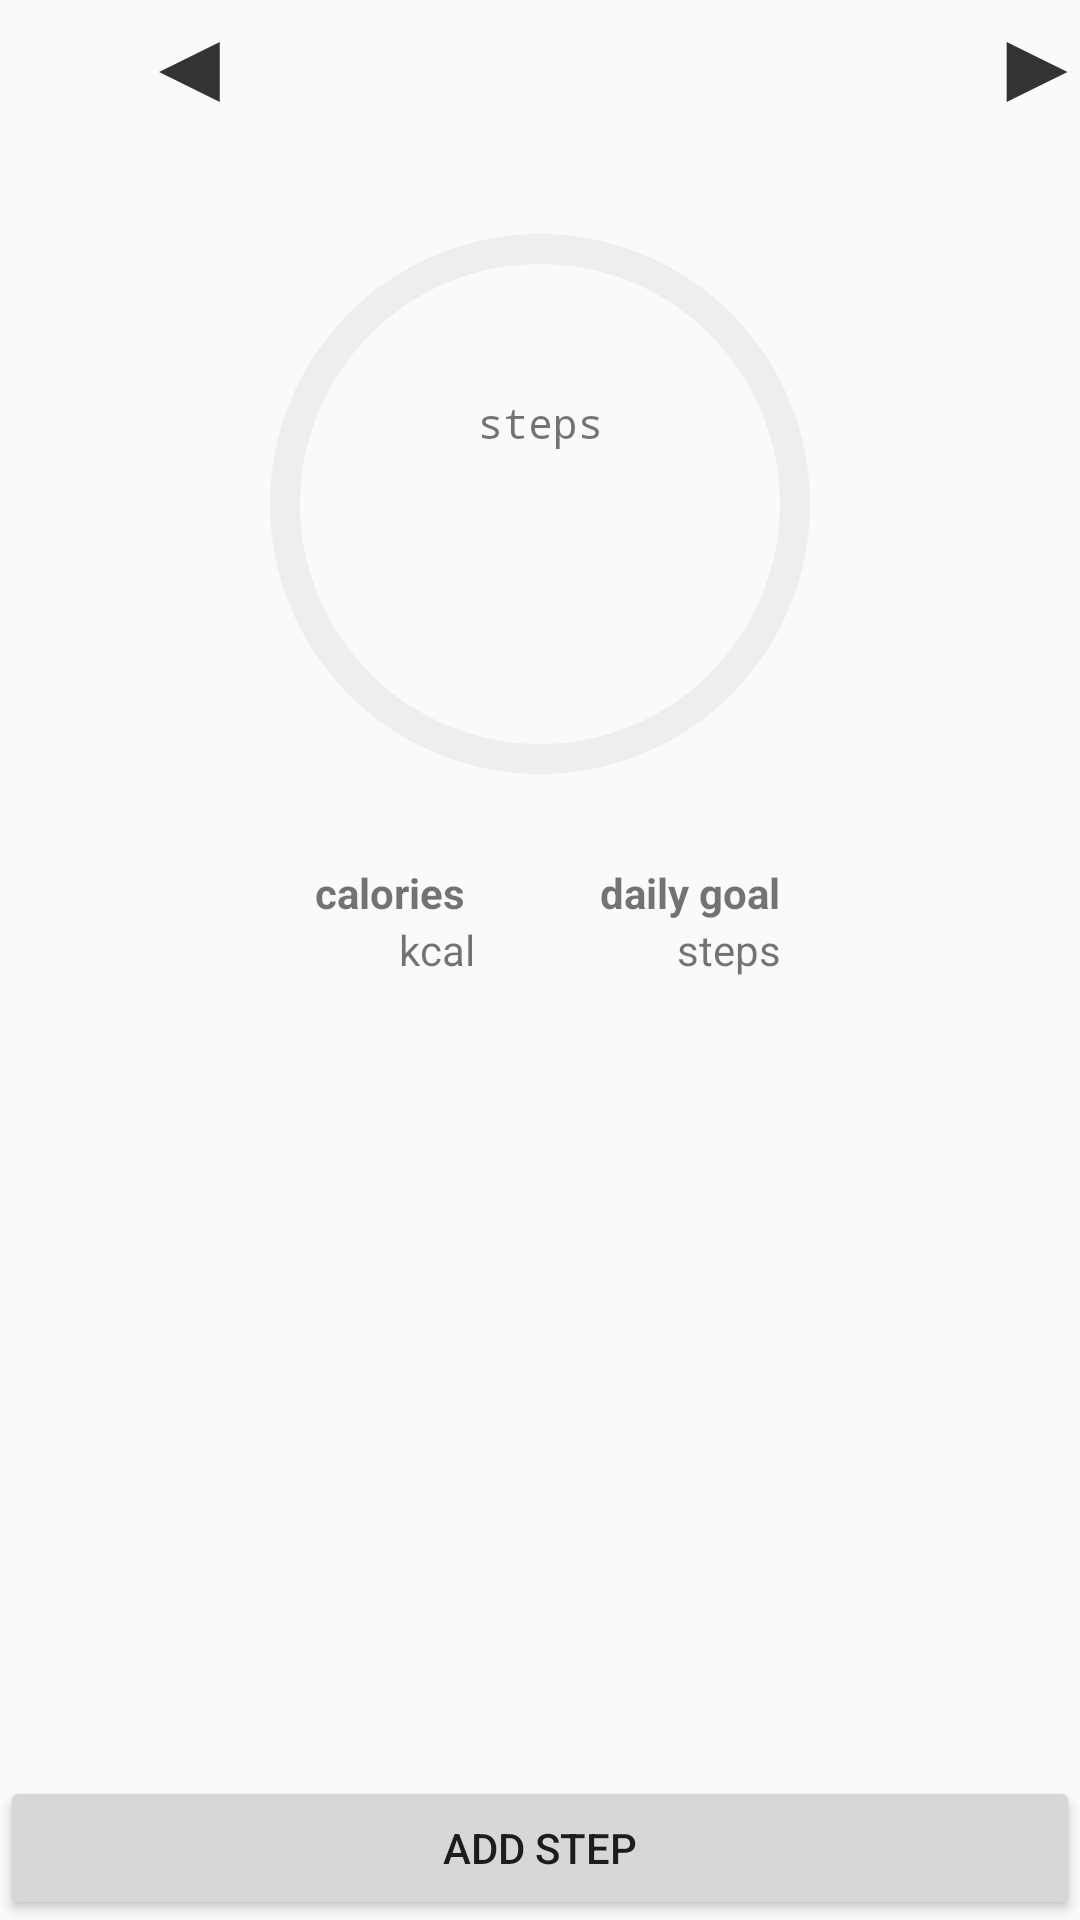

Screen size 1080px x 1920px. Icon name, then its center in pixels as point (x, y):
arrow left: point (189, 72)
